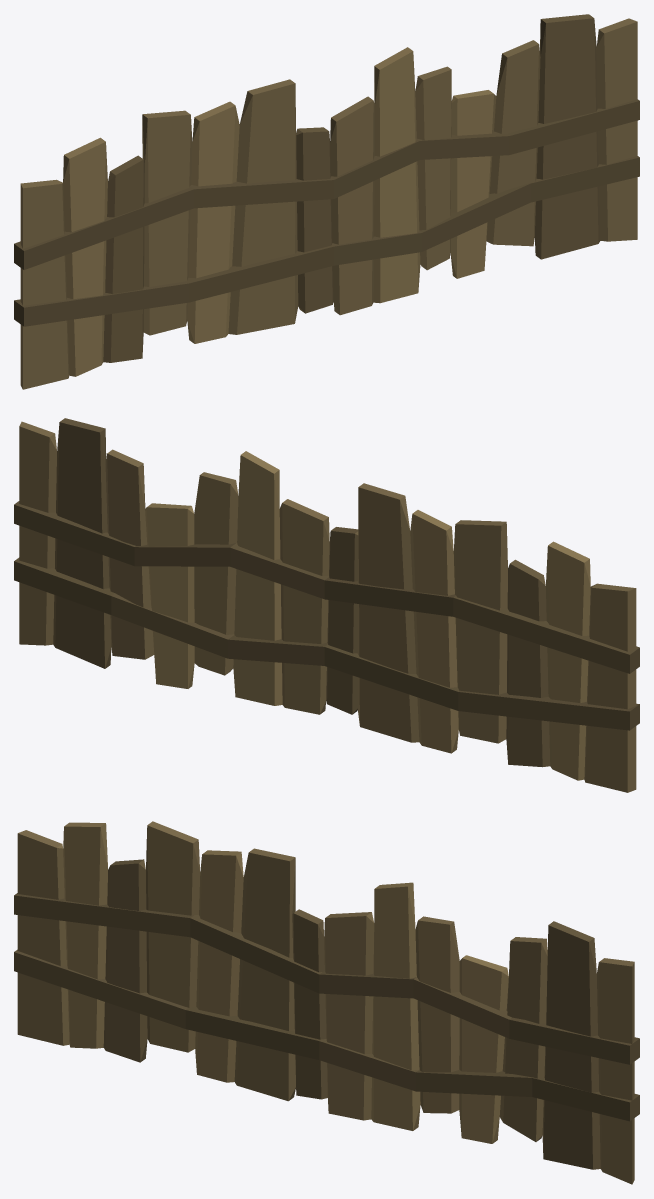
File: Fence_5.fbx
3 renders of one model, top to bottom at view 1: azimuth 30°, elevation 25°; view 2: azimuth 150°, elevation 25°; view 3: azimuth 330°, elevation 25°, orthographic.
Visible parts, largest first — view 1: Fence_5; view 2: Fence_5; view 3: Fence_5.
Boxes of the visible parts, x1,y1,x2,y2 form: Fence_5: (14,14,639,389); Fence_5: (14,418,639,792); Fence_5: (14,821,639,1184).
Size of the model in its own units: 366 by 138 by 19.01.
